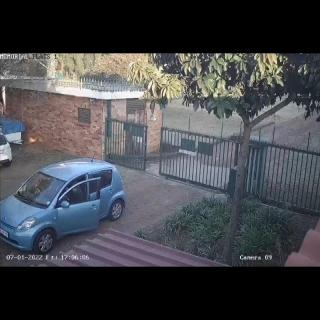car: (0, 158, 125, 254), (0, 121, 12, 169)
